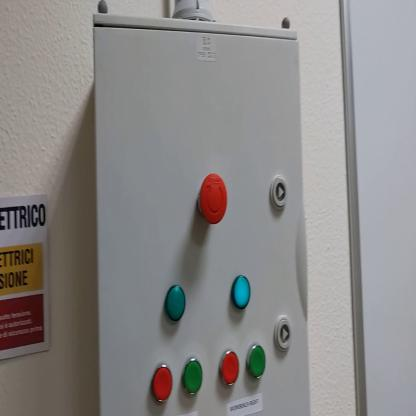left green button: (183, 357, 204, 396)
left red button: (153, 365, 176, 404), (220, 349, 242, 388)
right green button: (250, 344, 268, 383)
